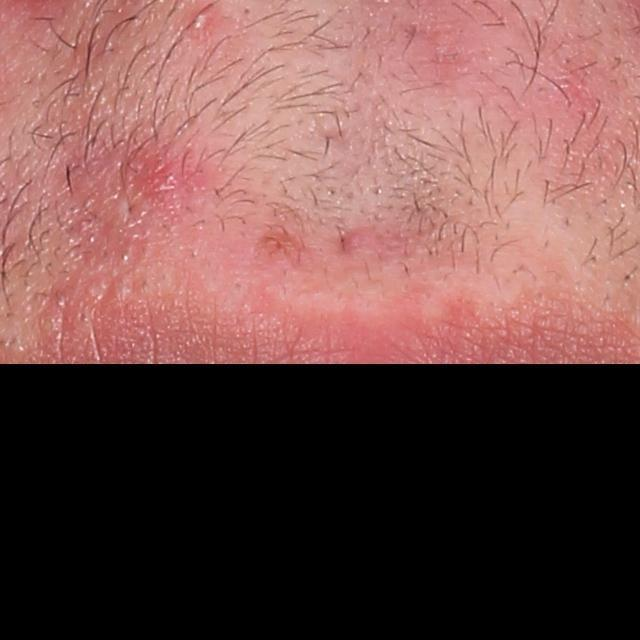papule: (137, 148, 197, 198), (339, 225, 369, 253)
pustule: (184, 4, 212, 35)
